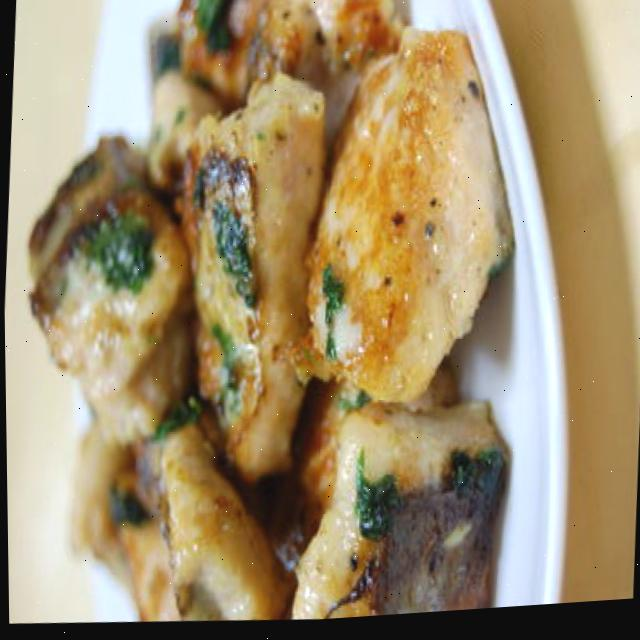熟制海鲜: (7, 0, 520, 640)
